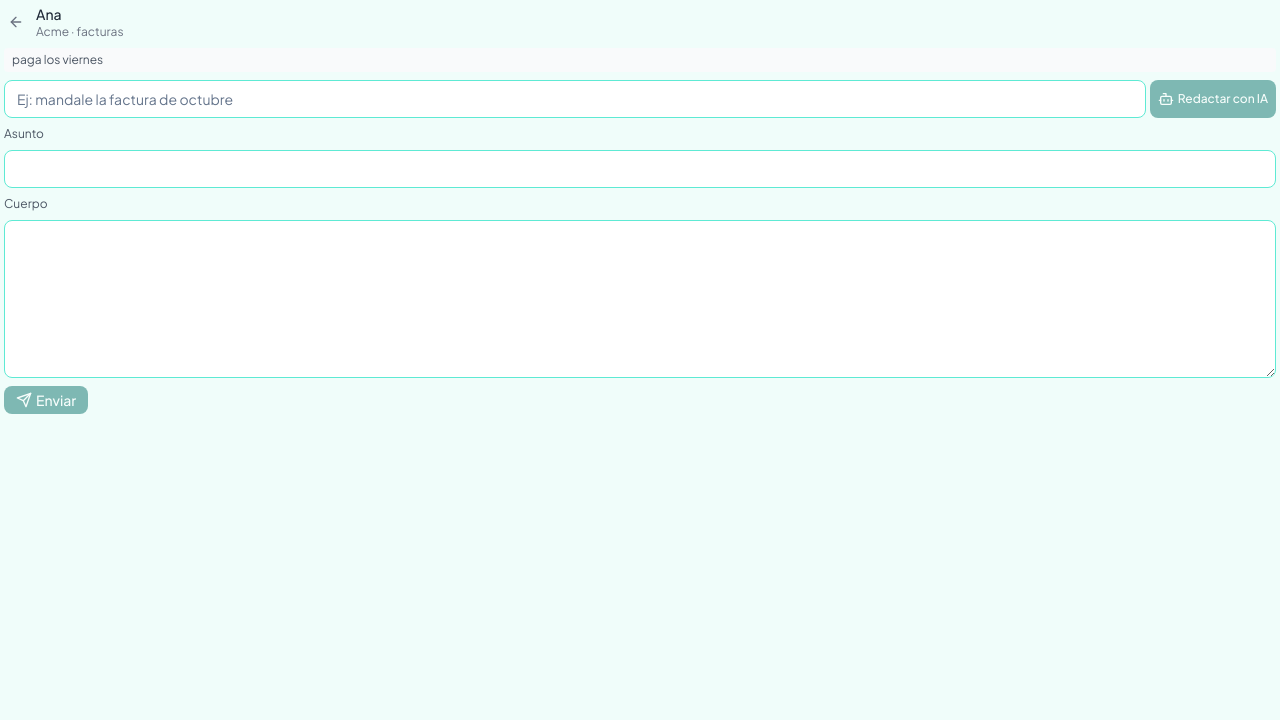
Test: ComposeForm › keeps the draft and shows the reason when the backend rejects the send
The width and height of the screenshot is (1280, 720).
Type "Asunto exacto" into the field labelled "Asunto" at (640, 169), box [4,150,1276,188]
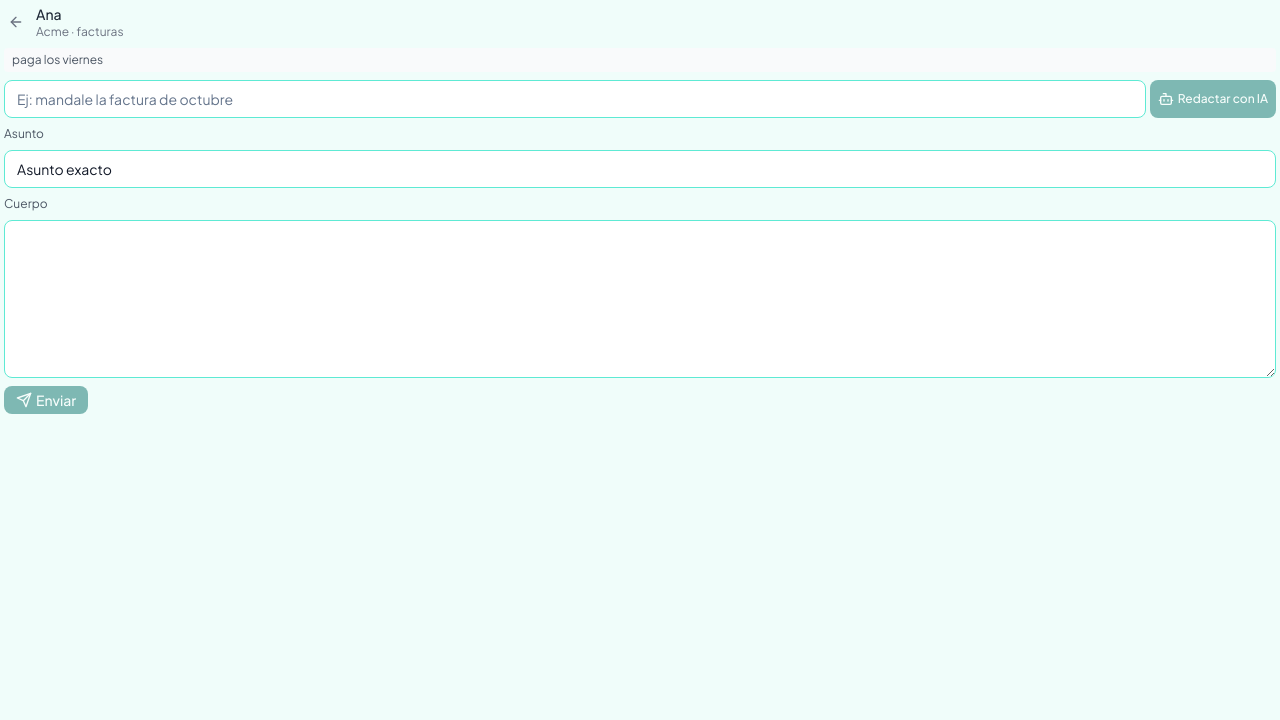
Type "Cuerpo exacto" into the text box labelled "Cuerpo" at (640, 299), box [4,220,1276,378]
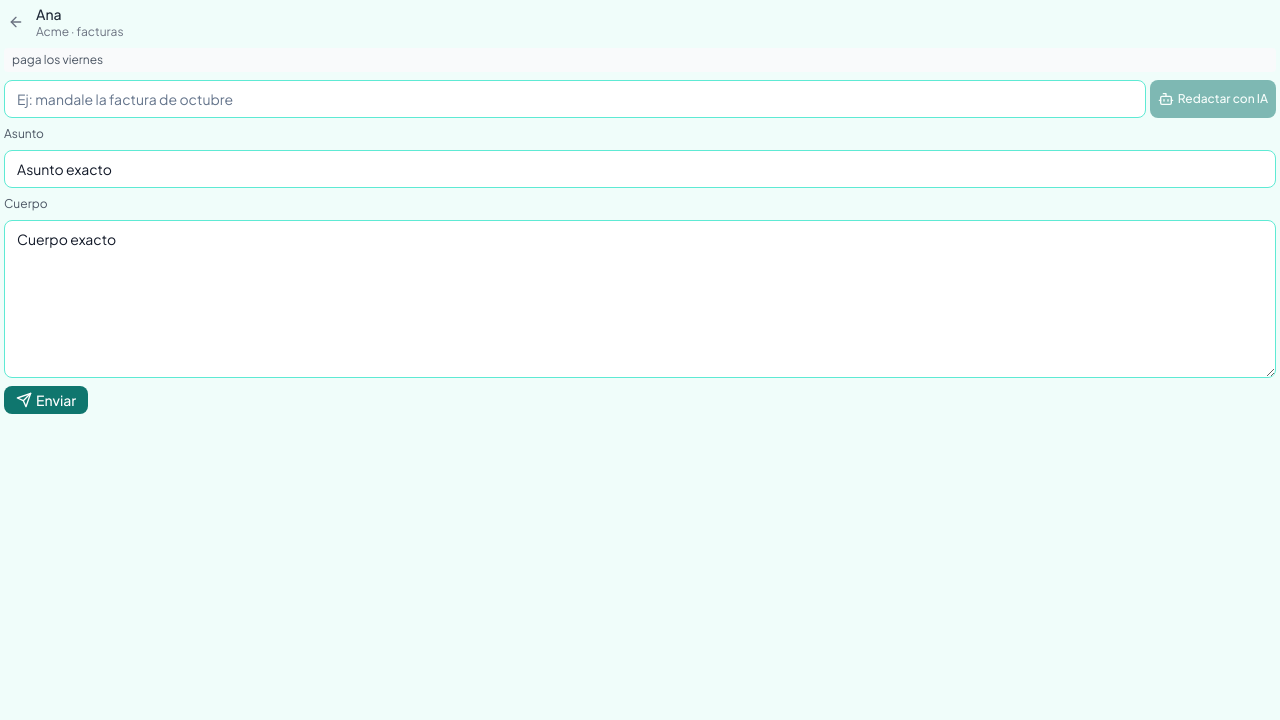
Click the button "Enviar" at (46, 400), box [4,386,88,414]
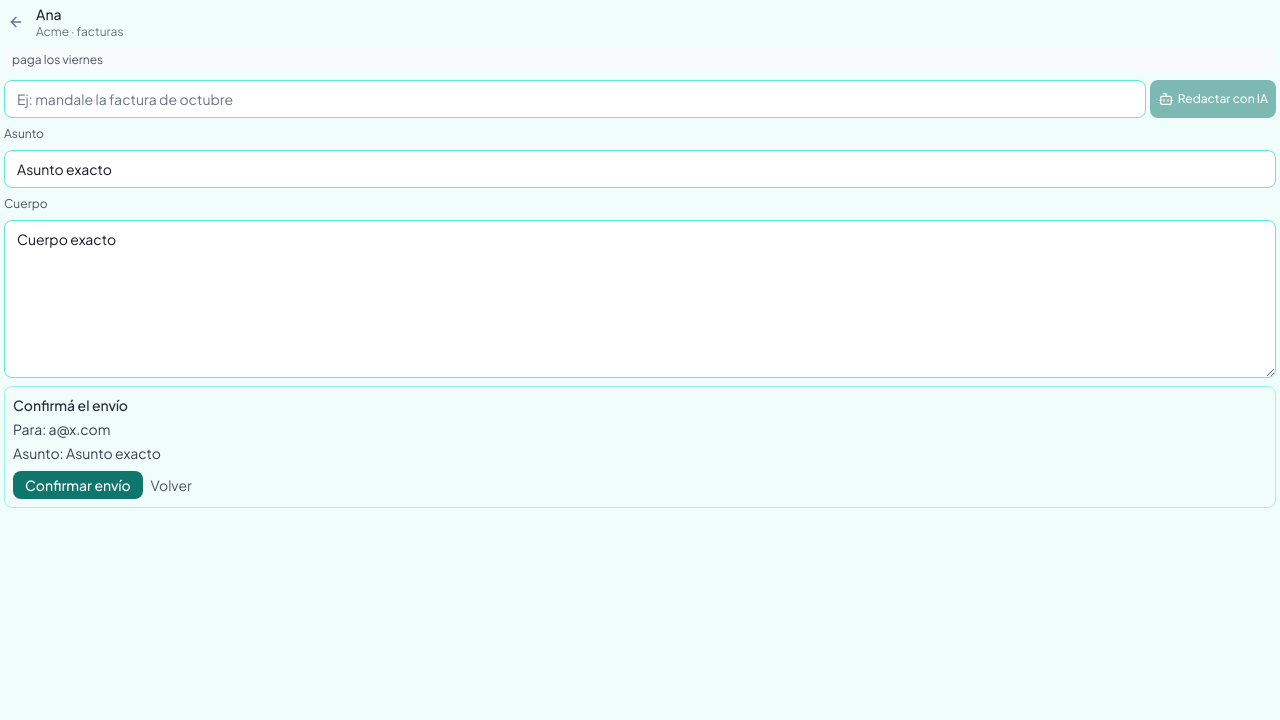
Click the button "Confirmar envío" at (78, 485), box [13,471,143,499]
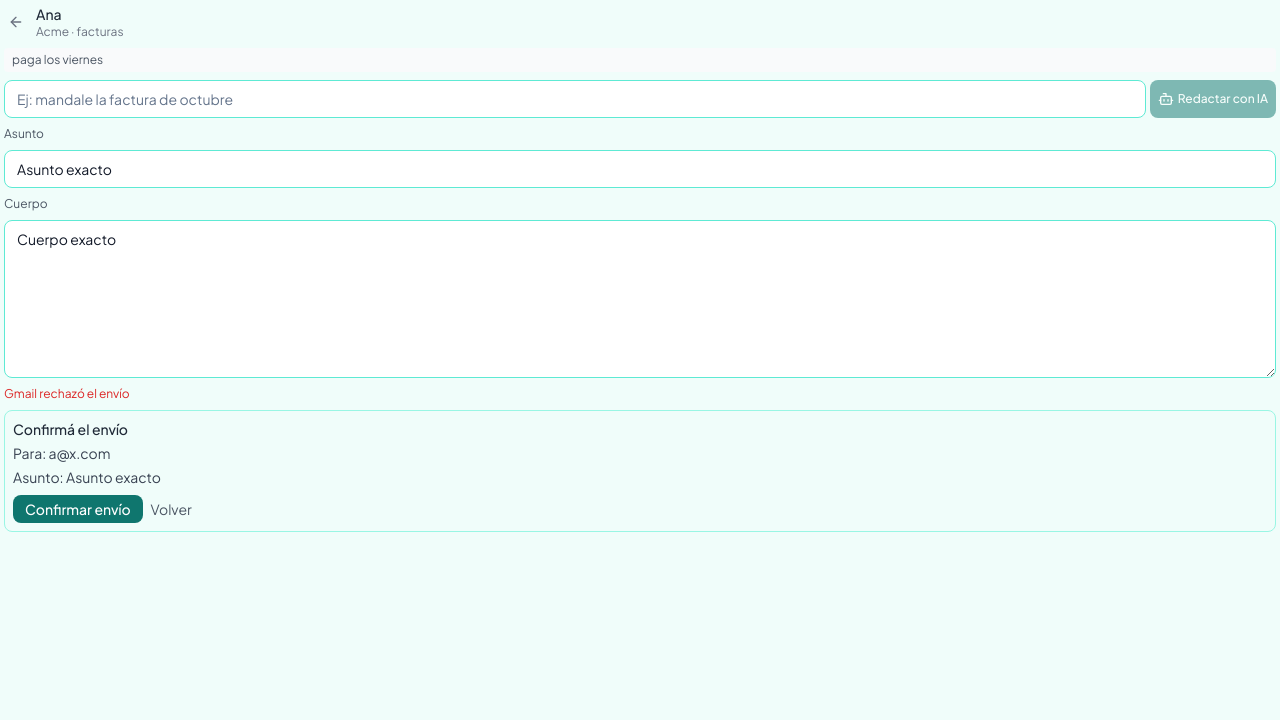
Check: the text "Gmail rechazó el envío" is shown, box [4,386,130,401]
